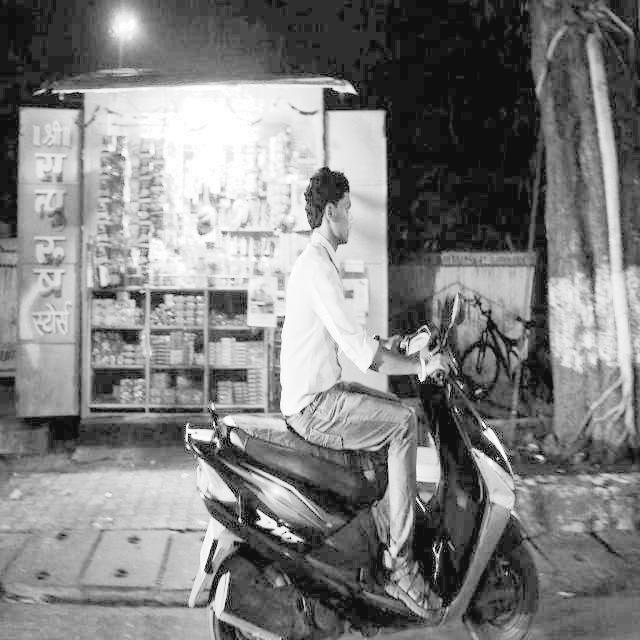Motorcycle: (102, 330, 607, 635)
